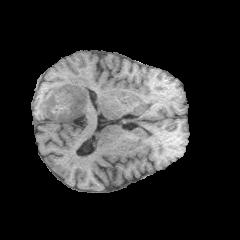glioma: (38, 75, 94, 121)
